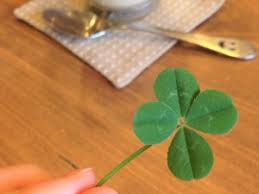4-clover: (133, 69, 238, 178)
